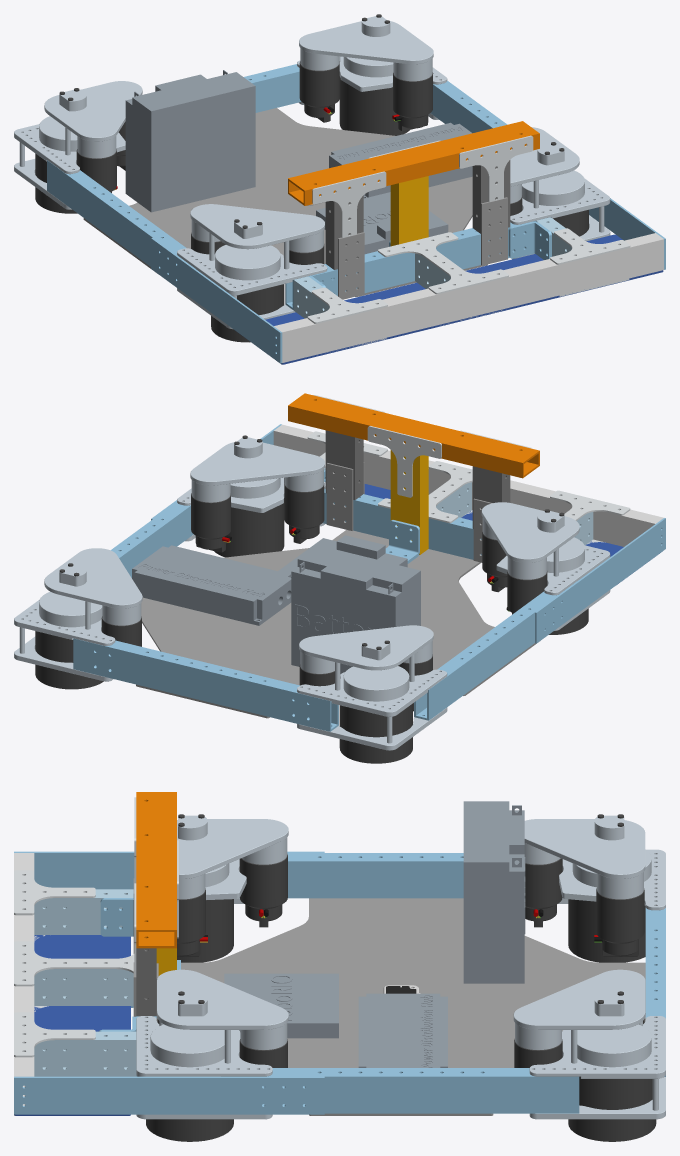
3 renders of one model, top to bottom at view 1: azimuth 30°, elevation 25°; view 2: azimuth 150°, elevation 25°; view 3: azimuth 270°, elevation 25°, orthographic. The views are drawn at different scales.
Visible parts, largest first — view 1: Simplified MK4i (×4), Simplified Battery, Front Tube, Tube 2"x1"x17.5" (×4), BellyPan, KB-25004 (×6), Side Plate (×2), SS Lifter Tube, Vertical Plate (×2), Simplified PDH, Rear belly pan, Vert Offset Tube (×2) (+4 smaller); view 2: Simplified MK4i (×4), Tube 2"x1"x17.5" (×4), BellyPan, Simplified Battery, Simplified PDH, SS Lifter Tube, Front Tube, KB-25004 (×4), Side Plate, Vert Offset Tube (×2), Vertical Plate (×2), Lifter 2 (+4 smaller); view 3: Simplified MK4i (×4), BellyPan, Tube 2"x1"x17.5" (×3), Side Plate (×2), Simplified Battery, Offset Tube (×3), Simplified PDH, SS Lifter Tube, KB-25004 (×4), Simplified Roborio, Rear belly pan, Front Tube (+2 smaller).
Part boxes in pixels (box(x1,y1,x2,y2)): Simplified MK4i (×4): box(14, 14, 610, 342); Simplified Battery: box(125, 70, 255, 212); Front Tube: box(274, 233, 663, 362); Tube 2"x1"x17.5" (×4): box(47, 64, 546, 310); BellyPan: box(83, 108, 487, 296); KB-25004 (×6): box(307, 135, 630, 323); Side Plate (×2): box(151, 198, 665, 363); SS Lifter Tube: box(288, 121, 539, 205); Vertical Plate (×2): box(338, 197, 507, 299); Simplified PDH: box(329, 122, 472, 198); Rear belly pan: box(235, 234, 663, 364); Vert Offset Tube (×2): box(325, 160, 510, 269); Simplified MK4i (×4): box(14, 435, 610, 763); Tube 2"x1"x17.5" (×4): box(73, 489, 576, 731); BellyPan: box(136, 530, 536, 718); Simplified Battery: box(291, 545, 420, 673); Simplified PDH: box(132, 545, 291, 625); SS Lifter Tube: box(288, 393, 539, 478); Front Tube: box(273, 424, 663, 546); KB-25004 (×4): box(367, 426, 630, 523); Side Plate: box(535, 518, 665, 643); Vert Offset Tube (×2): box(325, 430, 510, 528); Vertical Plate (×2): box(326, 463, 492, 562); Lifter 2: box(390, 450, 428, 554); Simplified MK4i (×4): box(136, 814, 665, 1141); BellyPan: box(181, 898, 645, 1115); Tube 2"x1"x17.5" (×3): box(262, 853, 665, 1113); Side Plate (×2): box(14, 851, 324, 1114); Simplified Battery: box(463, 801, 525, 983); Offset Tube (×3): box(34, 889, 136, 1076); Simplified PDH: box(358, 993, 447, 1067); SS Lifter Tube: box(136, 792, 176, 948); KB-25004 (×4): box(14, 870, 134, 1057); Simplified Roborio: box(224, 973, 338, 1038); Rear belly pan: box(14, 935, 130, 1115); Front Tube: box(14, 853, 34, 1076).
Size of the model in its own units: 0.6668 by 0.2631 by 0.8128.
